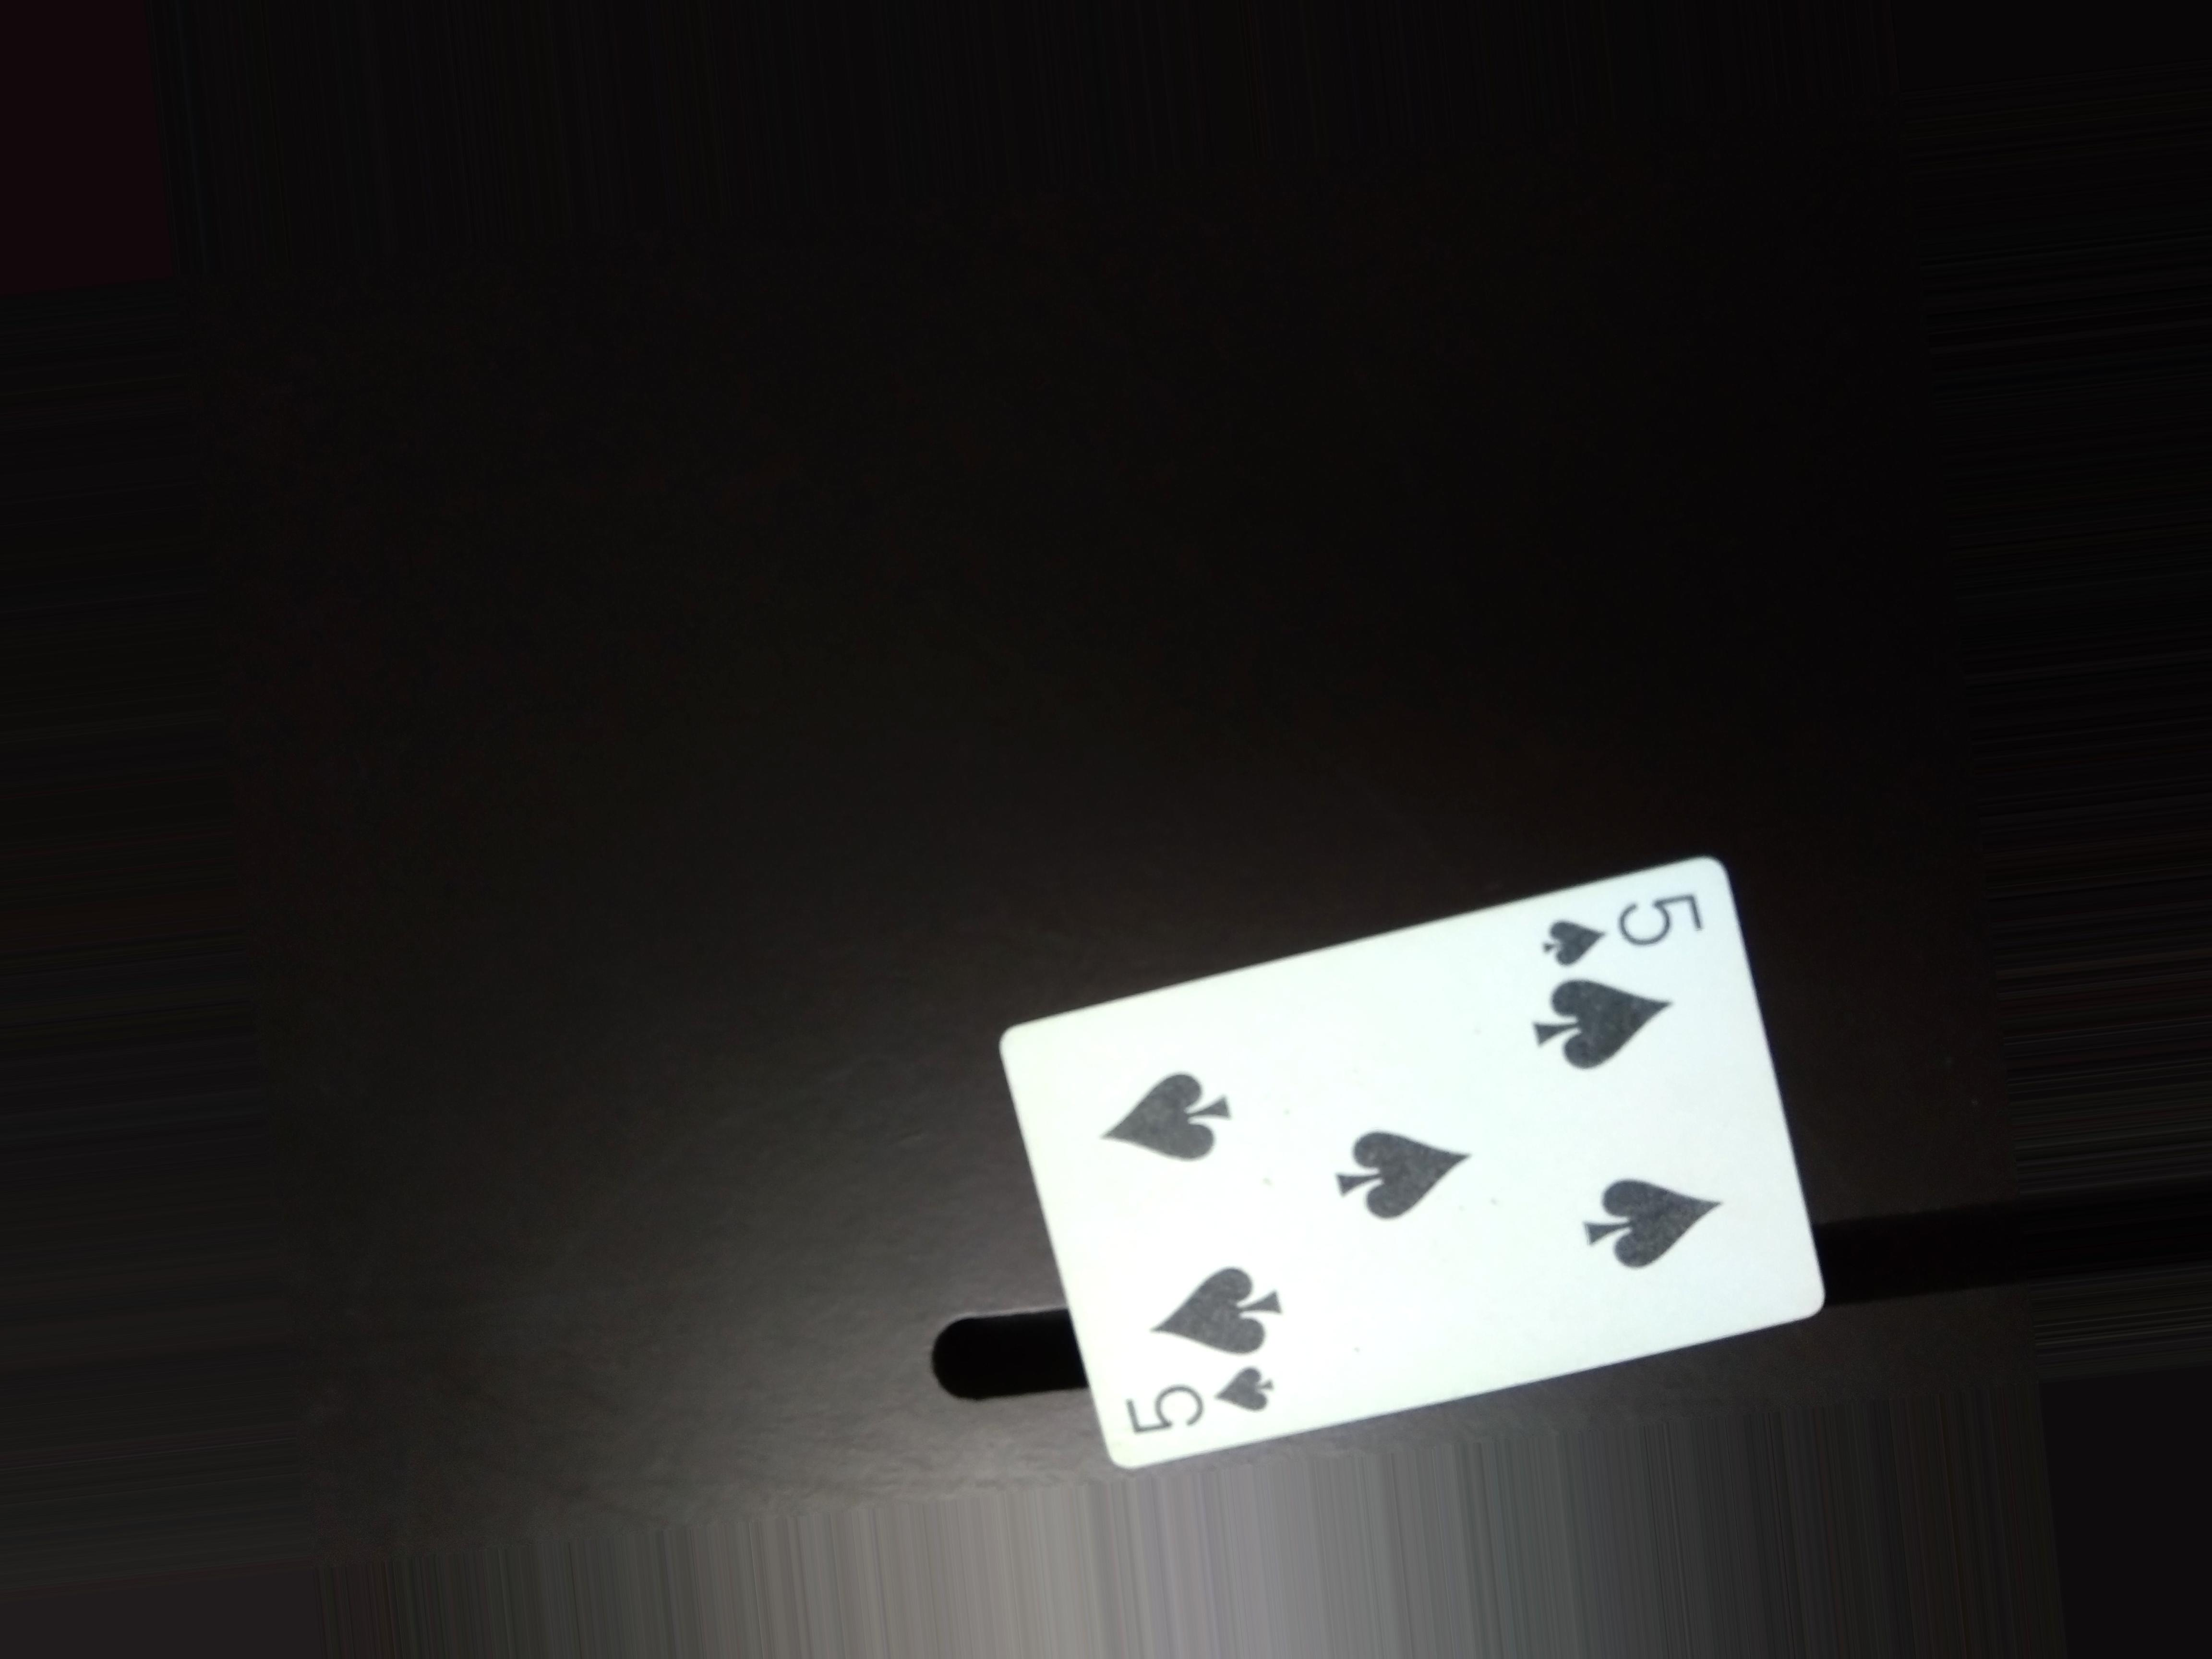5S: (1113, 1359, 1280, 1448)
